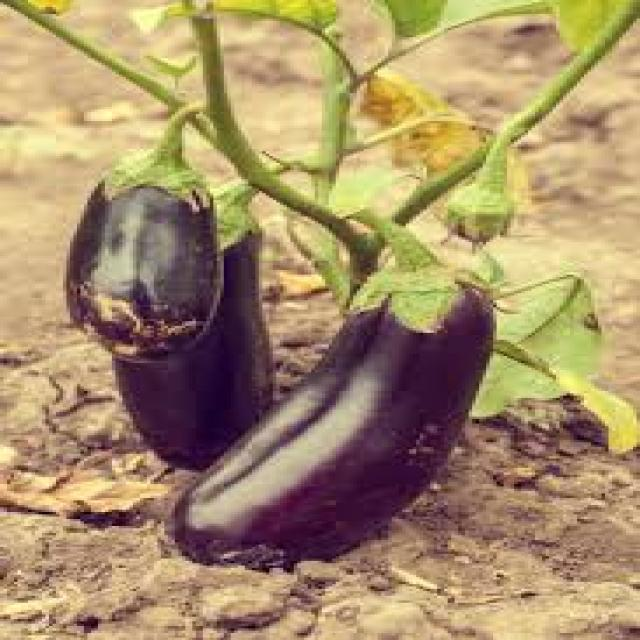Eggplant: (162, 222, 502, 566), (107, 174, 287, 466), (68, 130, 229, 356)
